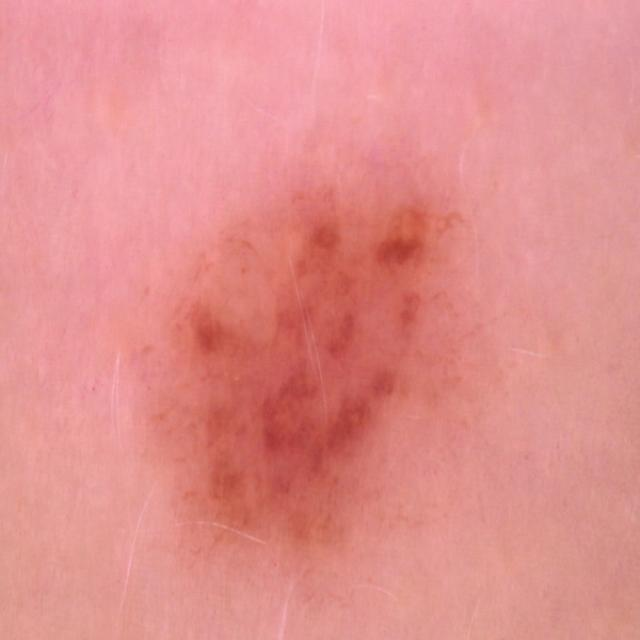NV: (130, 152, 496, 565)
